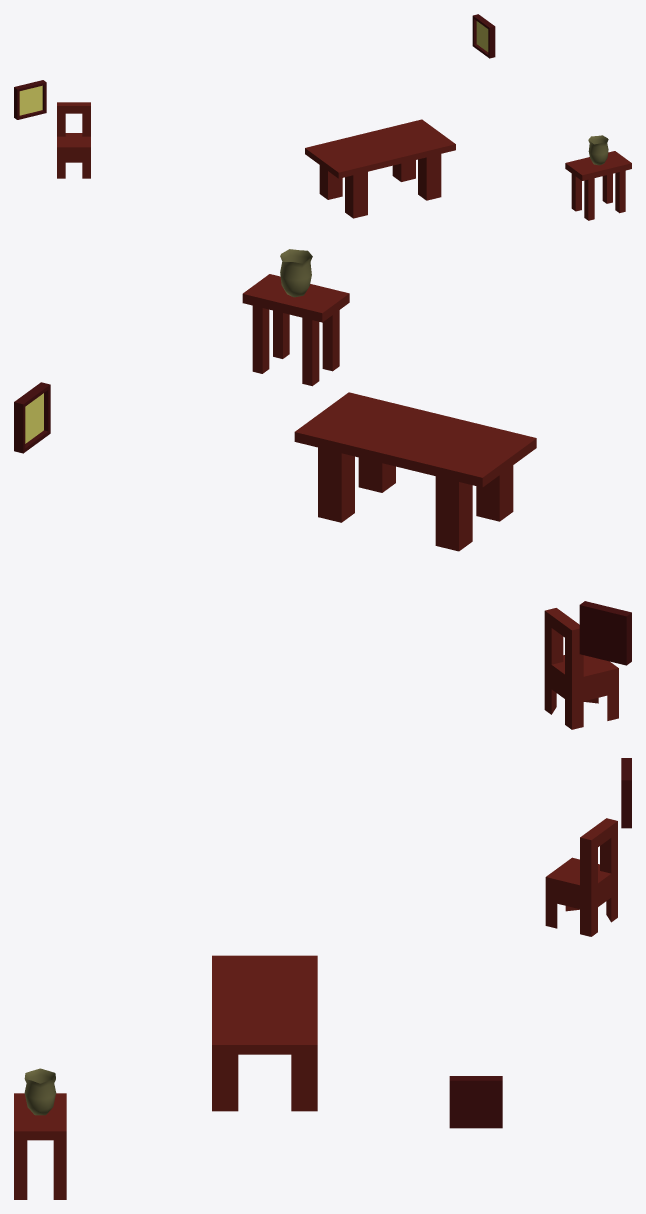
The picture shows the model from 3 angles, top to bottom: view 1: azimuth 30°, elevation 25°; view 2: azimuth 150°, elevation 25°; view 3: azimuth 270°, elevation 25°; orthographic projection. The views are drawn at different scales.
Parts seen in each view (by area): view 1: Table, Table.001, Cheir, Picture.001, Picture, FlowerVase; view 2: Table, Table.001, Cheir, Picture.001, Picture, FlowerVase; view 3: Table, Cheir, Table.001, Picture, FlowerVase, Picture.001.
Boxes of the visible parts, left/top/right/bottom form: Table: left=305, top=119, right=455, bottom=218; Table.001: left=565, top=151, right=631, bottom=220; Cheir: left=57, top=102, right=90, bottom=178; Picture.001: left=14, top=80, right=46, bottom=119; Picture: left=472, top=14, right=495, bottom=58; FlowerVase: left=588, top=135, right=608, bottom=165; Table: left=294, top=392, right=536, bottom=551; Table.001: left=242, top=274, right=349, bottom=386; Cheir: left=544, top=608, right=618, bottom=729; Picture.001: left=579, top=601, right=631, bottom=665; Picture: left=14, top=382, right=50, bottom=453; FlowerVase: left=280, top=249, right=312, bottom=297; Table: left=212, top=955, right=317, bottom=1111; Cheir: left=545, top=818, right=617, bottom=936; Table.001: left=14, top=1093, right=66, bottom=1199; Picture: left=449, top=1076, right=502, bottom=1128; FlowerVase: left=24, top=1068, right=56, bottom=1115; Picture.001: left=621, top=758, right=631, bottom=828.
Bounding box in the file's own units: 1445 × 272 × 1170.
